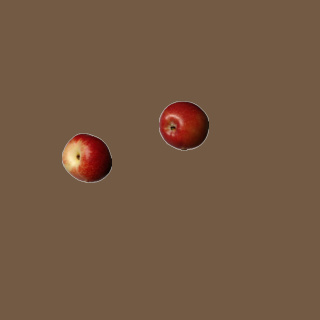Apple Braeburn: (158, 100, 208, 150)
Nectarine: (61, 132, 111, 182)
